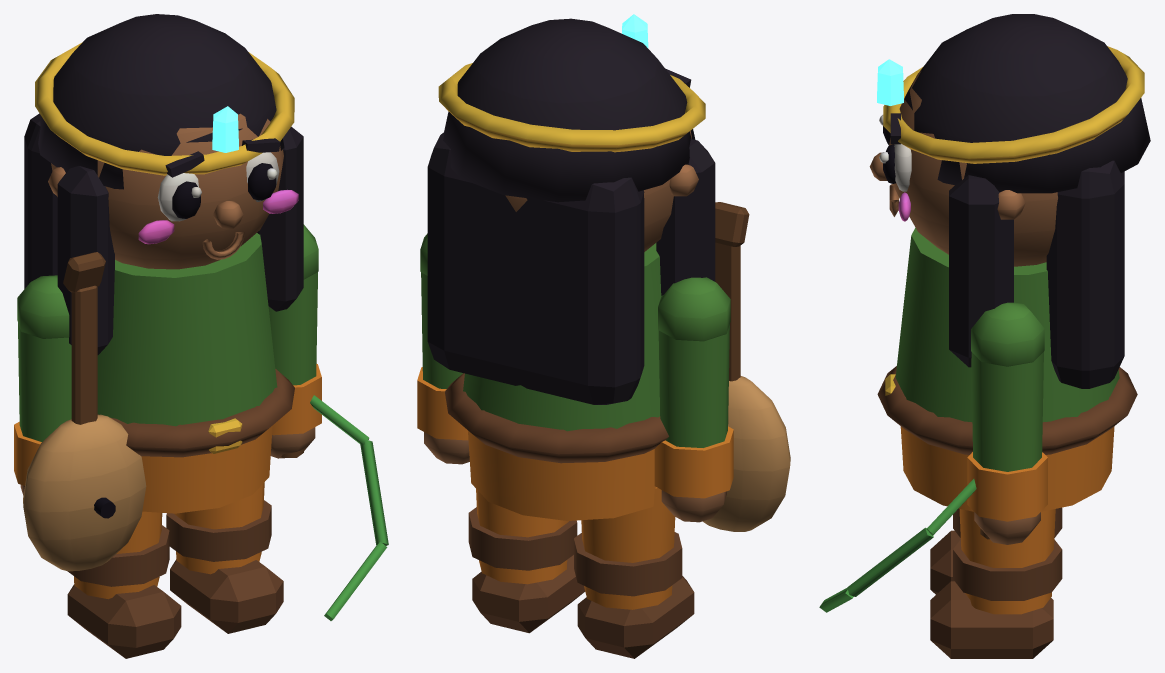
Rendered from hero_yara.glb.
The picture shows the model from 3 angles, left to right: view 1: azimuth 30°, elevation 25°; view 2: azimuth 150°, elevation 25°; view 3: azimuth 270°, elevation 25°; orthographic projection. The views are drawn at different scales.
Visible parts, largest first — view 1: body_t0_palette, arml_t0_palette, legr_t0_palette, legl_t0_palette, armr_t0_palette, body_t0_crystal; view 2: body_t0_palette, arml_t0_palette, legl_t0_palette, legr_t0_palette, armr_t0_palette, body_t0_crystal; view 3: body_t0_palette, armr_t0_palette, legr_t0_palette, legl_t0_palette, body_t0_crystal.
Part boxes in pixels (x1,y1,x2,y2): body_t0_palette: [24, 14, 303, 513]; arml_t0_palette: [14, 252, 146, 571]; legr_t0_palette: [166, 482, 283, 633]; legl_t0_palette: [67, 511, 181, 658]; armr_t0_palette: [268, 224, 388, 620]; body_t0_crystal: [212, 106, 238, 152]; body_t0_palette: [427, 18, 715, 520]; arml_t0_palette: [654, 202, 790, 531]; legl_t0_palette: [574, 487, 694, 658]; legr_t0_palette: [468, 489, 585, 633]; armr_t0_palette: [417, 233, 469, 464]; body_t0_crystal: [622, 14, 648, 48]; body_t0_palette: [869, 14, 1150, 511]; armr_t0_palette: [819, 302, 1047, 612]; legr_t0_palette: [930, 509, 1062, 658]; legl_t0_palette: [930, 507, 1062, 594]; body_t0_crystal: [877, 59, 903, 105].
Size of the model in its own units: 0.3077 by 0.508 by 0.2547.
